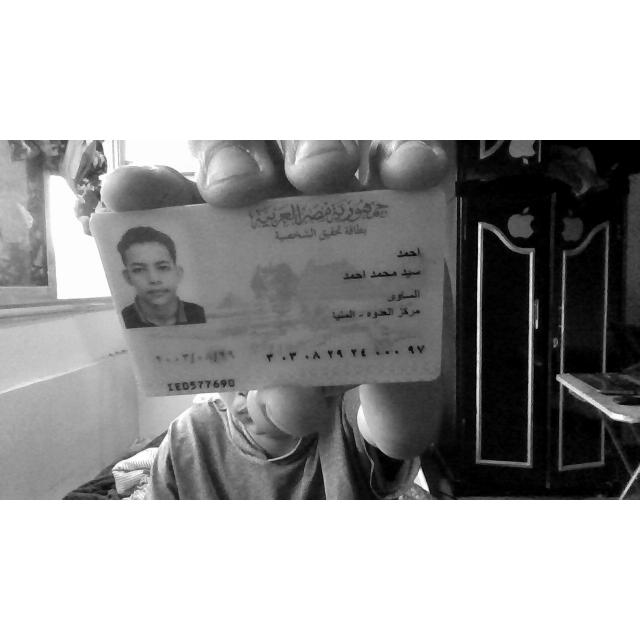id_card: (90, 189, 445, 396)
